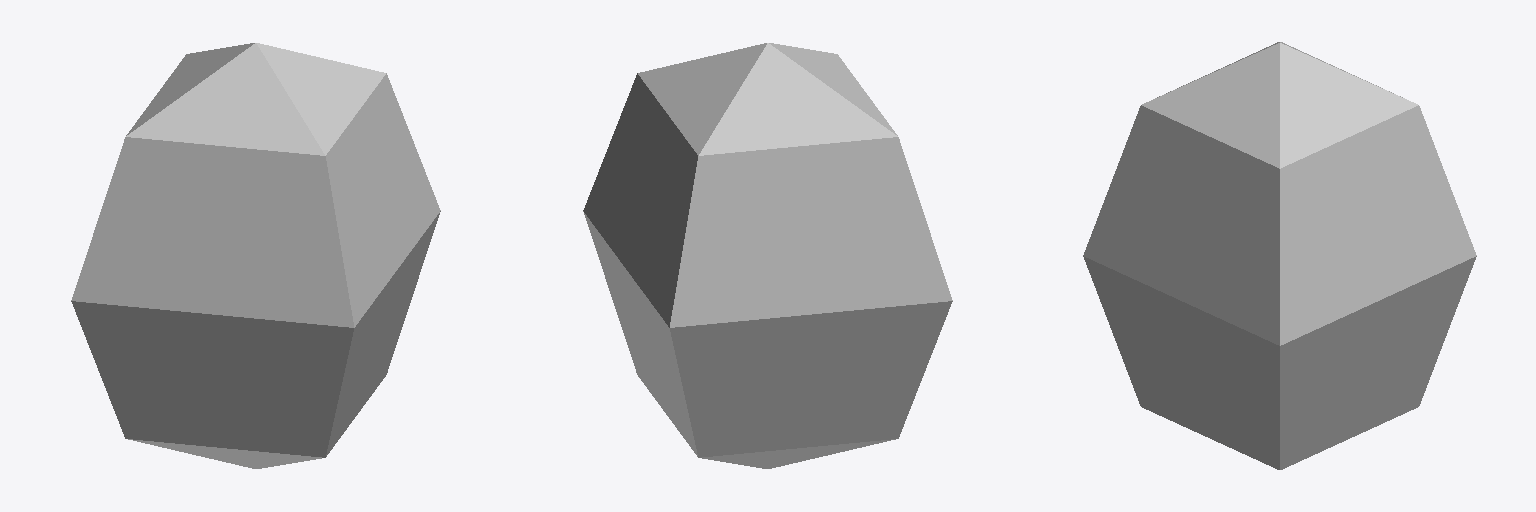
File: bgrnd52-low.obj
3 renders of one model, left to right at view 1: azimuth 30°, elevation 25°; view 2: azimuth 150°, elevation 25°; view 3: azimuth 270°, elevation 25°, orthographic.
Parts seen in each view (by area): view 1: frm-sphere7; view 2: frm-sphere7; view 3: frm-sphere7.
Boxes of the visible parts, x1,y1,x2,y2 form: frm-sphere7: [71, 43, 440, 468]; frm-sphere7: [583, 43, 952, 468]; frm-sphere7: [1083, 42, 1476, 469].
Bounding box in the file's own units: 9.67 × 10.67 × 8.92.